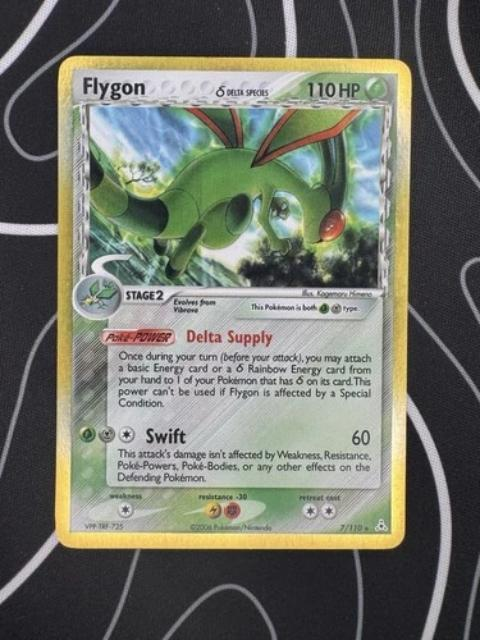Card: (51, 55, 412, 553)
Name: (76, 73, 147, 101), (205, 78, 270, 101)
